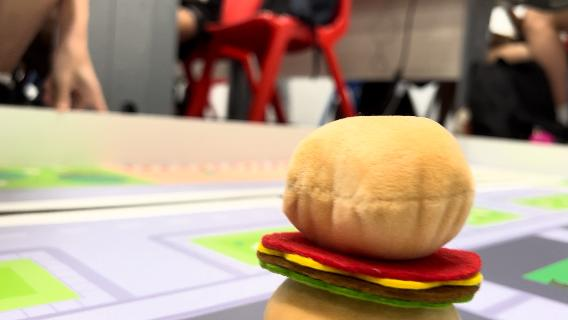burger: (253, 110, 484, 320)
